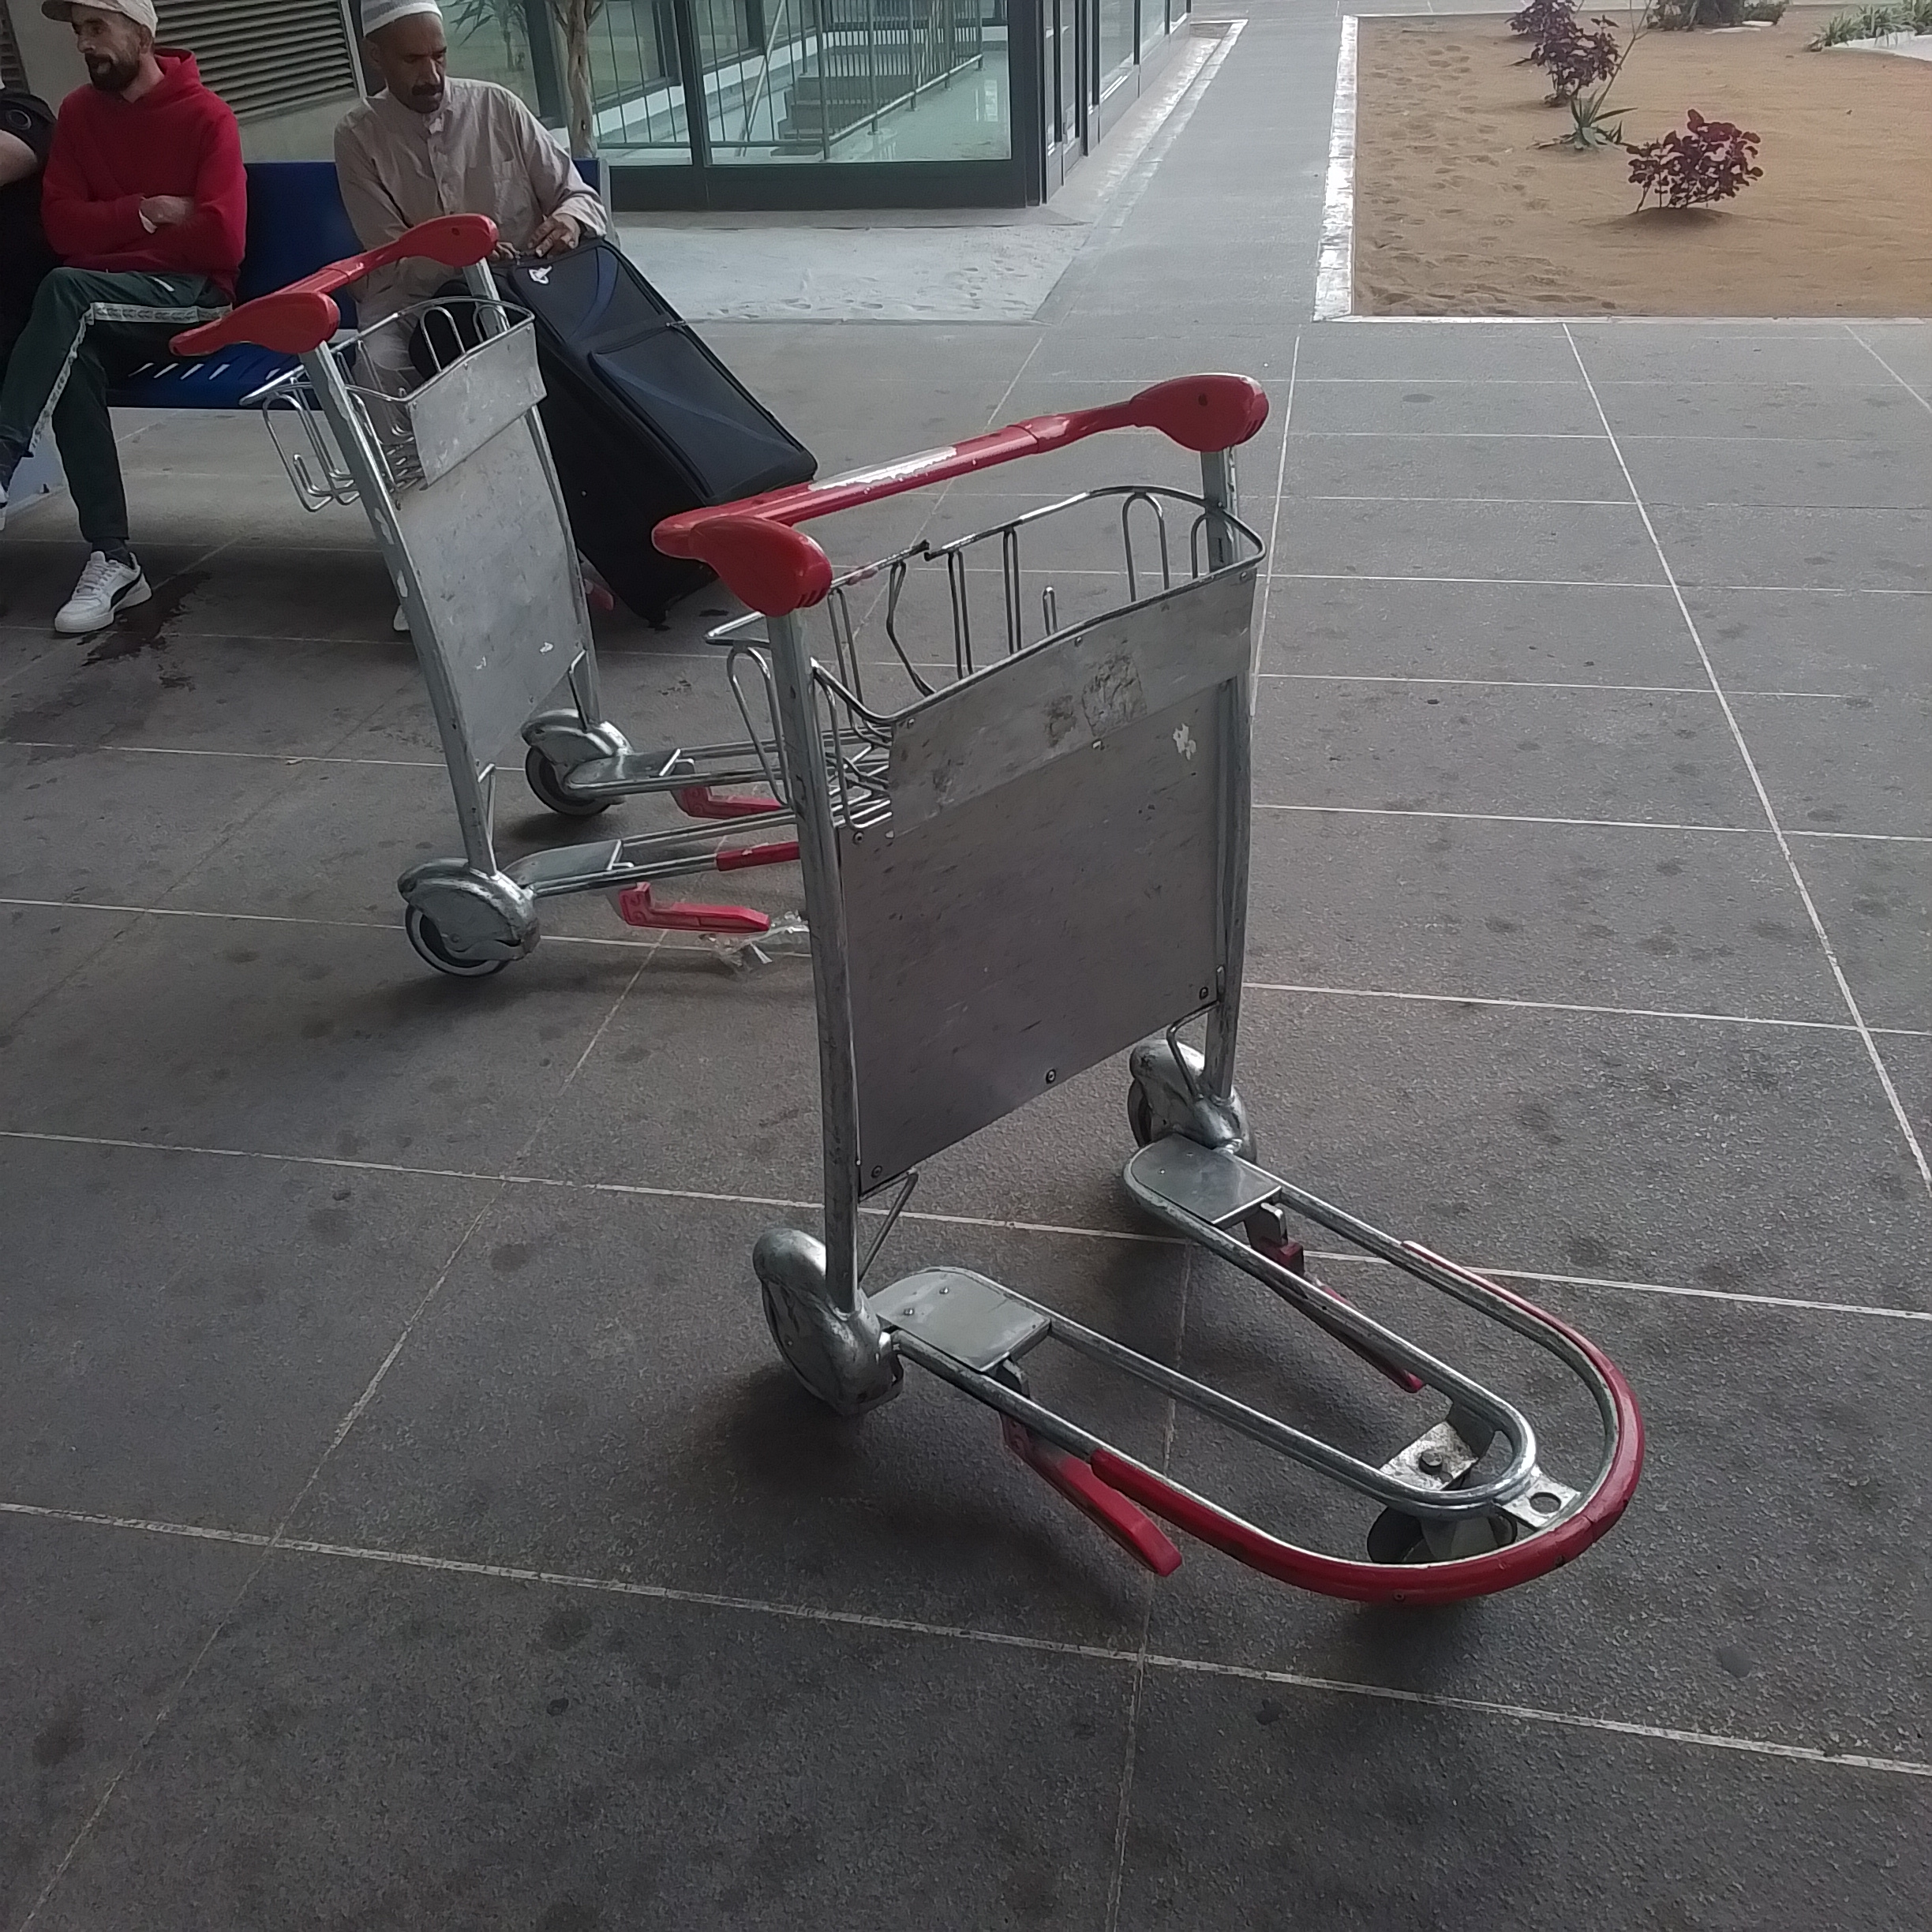airport-trolley: (644, 377, 1642, 1599), (182, 212, 916, 977)
